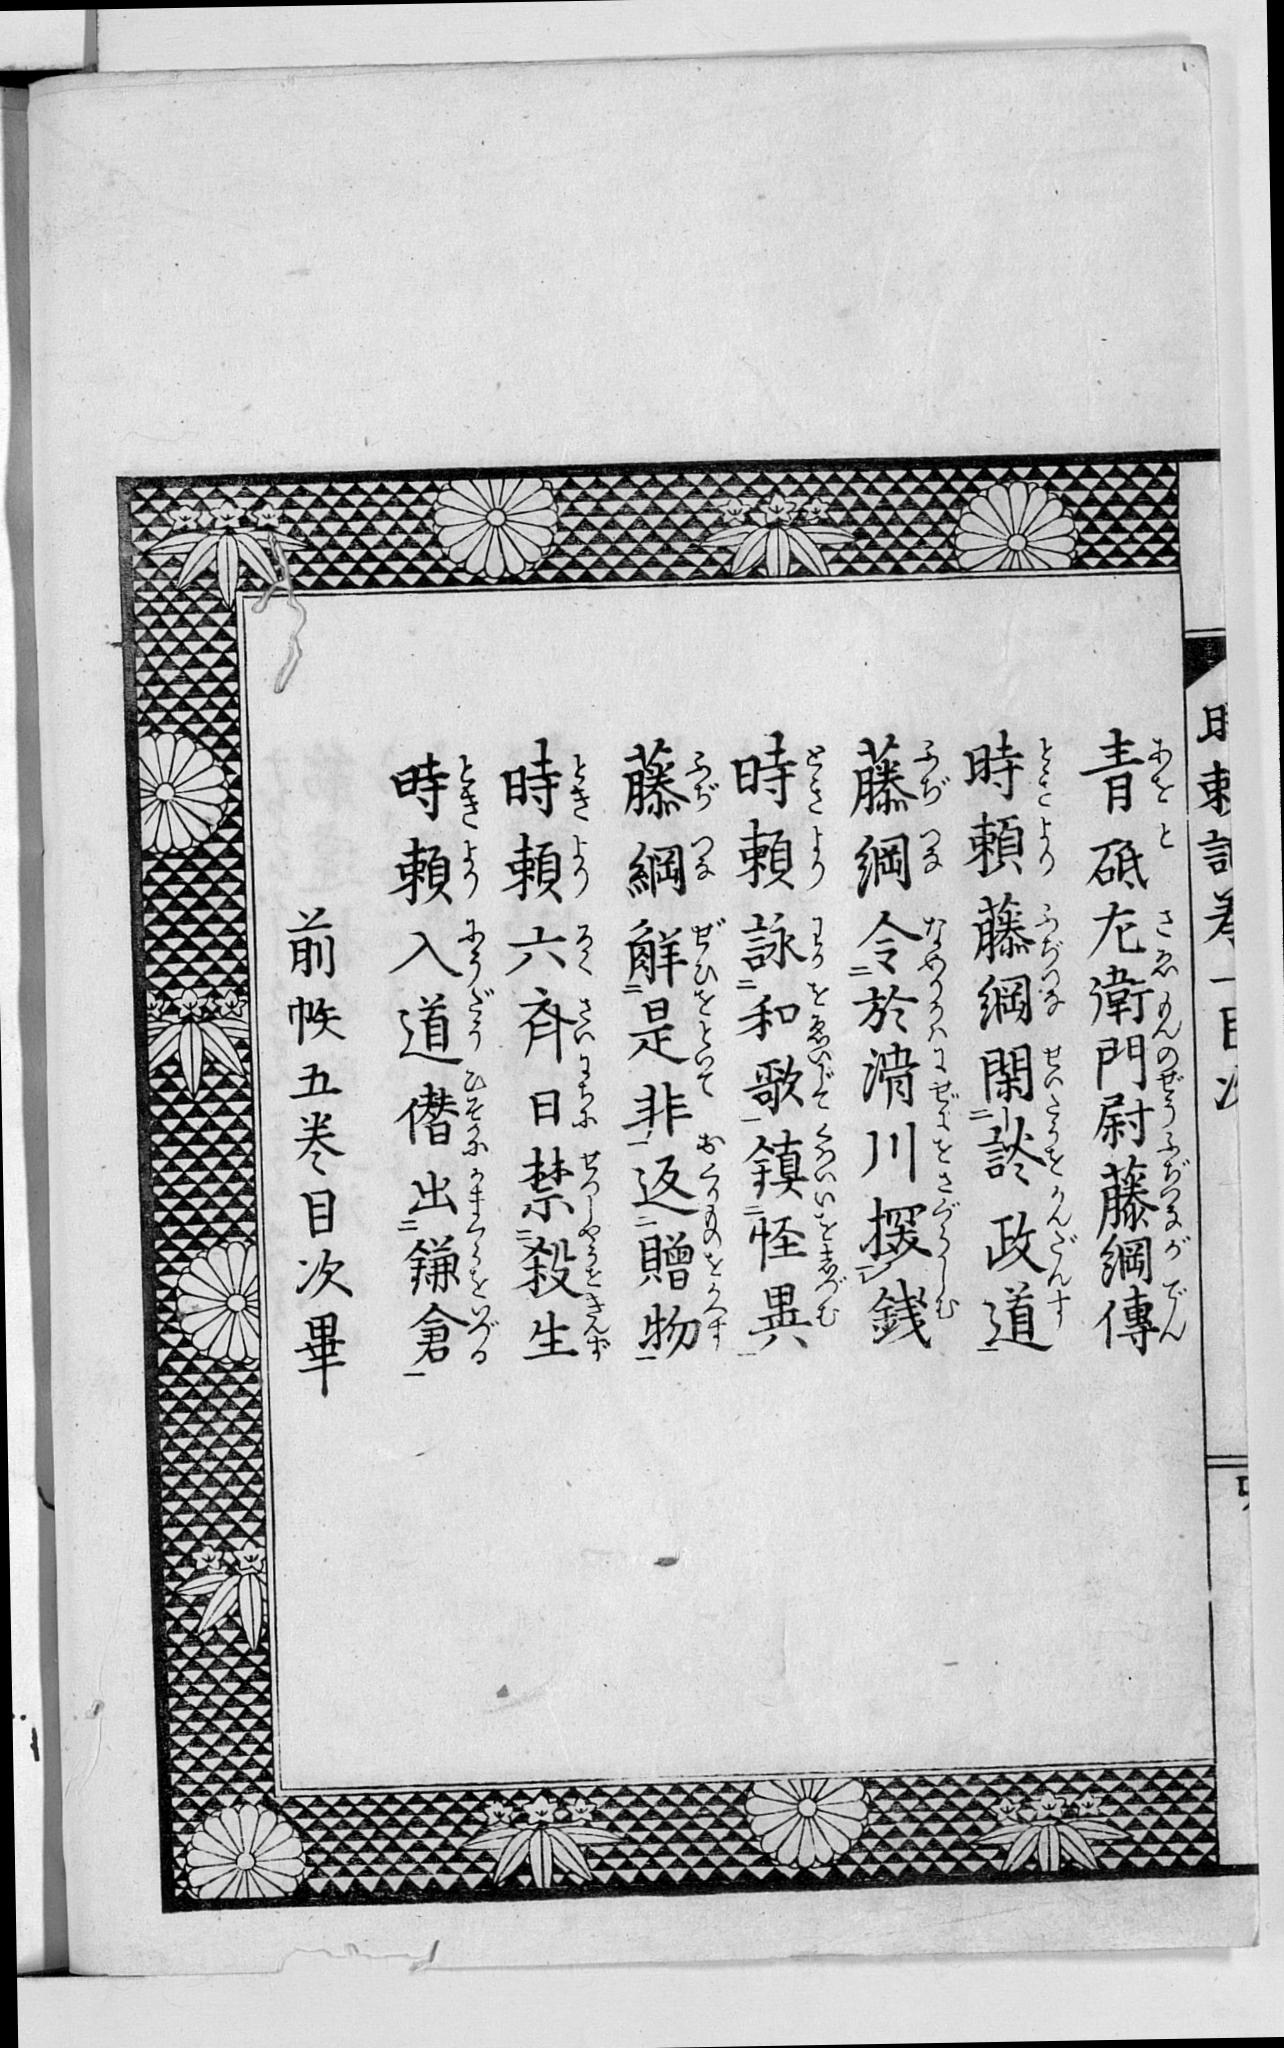MainZone-Character: (972, 1186, 1083, 1286), (621, 991, 723, 1099), (1072, 898, 1186, 988), (614, 733, 720, 827), (725, 726, 830, 819), (496, 732, 596, 828), (1075, 720, 1177, 815), (852, 1041, 960, 1128), (612, 911, 729, 991), (393, 1068, 494, 1159), (852, 1193, 963, 1276), (389, 986, 501, 1066), (845, 732, 953, 815), (957, 725, 1059, 812), (740, 1122, 840, 1208), (840, 821, 948, 901), (1093, 1275, 1195, 1359), (382, 747, 484, 831), (962, 887, 1065, 970), (729, 818, 833, 901), (626, 1153, 725, 1239), (1081, 969, 1191, 1045), (382, 831, 490, 908), (856, 1275, 960, 1354), (737, 982, 840, 1062), (969, 1279, 1074, 1357), (843, 906, 951, 980), (611, 835, 723, 906), (1074, 819, 1179, 893), (969, 1106, 1070, 1183), (849, 1125, 960, 1195), (957, 809, 1059, 884), (516, 1139, 606, 1223), (510, 1054, 604, 1136), (1090, 1091, 1195, 1162), (385, 915, 488, 986), (512, 1295, 617, 1365), (506, 1223, 606, 1295), (617, 1088, 723, 1156), (499, 830, 596, 903), (510, 983, 601, 1063), (629, 1238, 726, 1310), (1092, 1158, 1189, 1230), (734, 903, 833, 973), (1086, 1031, 1191, 1096), (500, 915, 599, 983), (846, 980, 956, 1041), (395, 1235, 494, 1301), (969, 1035, 1065, 1103), (402, 1300, 499, 1368), (746, 1276, 851, 1338), (746, 1210, 845, 1275), (964, 969, 1067, 1031), (398, 1167, 490, 1235), (729, 1062, 842, 1116), (629, 1304, 734, 1360), (1093, 1233, 1195, 1291)
MainZone-Ruby: (685, 912, 728, 988), (1044, 1186, 1077, 1285), (910, 735, 950, 810), (459, 1069, 490, 1156), (692, 992, 720, 1087), (683, 742, 717, 818), (926, 1196, 960, 1269), (929, 1045, 960, 1122), (1143, 733, 1176, 804), (694, 1164, 723, 1241), (1148, 903, 1177, 979), (805, 985, 834, 1060), (1161, 1158, 1194, 1224), (811, 1124, 837, 1205), (580, 1295, 612, 1362), (464, 1304, 499, 1368), (464, 986, 496, 1056), (454, 747, 481, 825), (1158, 1279, 1188, 1344), (574, 1224, 604, 1289), (1037, 898, 1064, 969), (919, 911, 948, 974), (812, 1276, 848, 1326), (1043, 1105, 1067, 1179), (575, 1147, 601, 1217), (926, 1133, 957, 1189), (575, 1056, 598, 1133), (459, 917, 485, 980), (1033, 732, 1055, 807), (812, 1213, 840, 1272), (800, 742, 824, 812), (466, 1235, 491, 1300), (570, 748, 590, 824), (570, 833, 592, 898), (464, 1168, 487, 1233), (1160, 1090, 1180, 1159), (571, 918, 595, 979), (457, 837, 481, 896), (1154, 991, 1182, 1040), (916, 824, 944, 872), (572, 992, 596, 1050), (809, 1065, 839, 1111), (701, 1254, 726, 1307), (689, 837, 717, 883), (1037, 810, 1056, 875), (926, 980, 948, 1037), (1155, 1045, 1185, 1087), (809, 822, 827, 890), (1041, 1044, 1065, 1094), (1038, 970, 1064, 1017), (932, 1284, 959, 1328), (809, 912, 827, 970), (704, 1310, 728, 1353), (692, 1122, 723, 1155), (1049, 1289, 1071, 1329), (1163, 1236, 1191, 1263), (1152, 824, 1175, 853)
